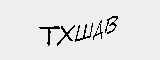В: (105, 15, 121, 36)
Д: (93, 18, 105, 41)
Т: (39, 24, 58, 48)
Х: (57, 22, 78, 45)
Ш: (77, 21, 95, 41)
